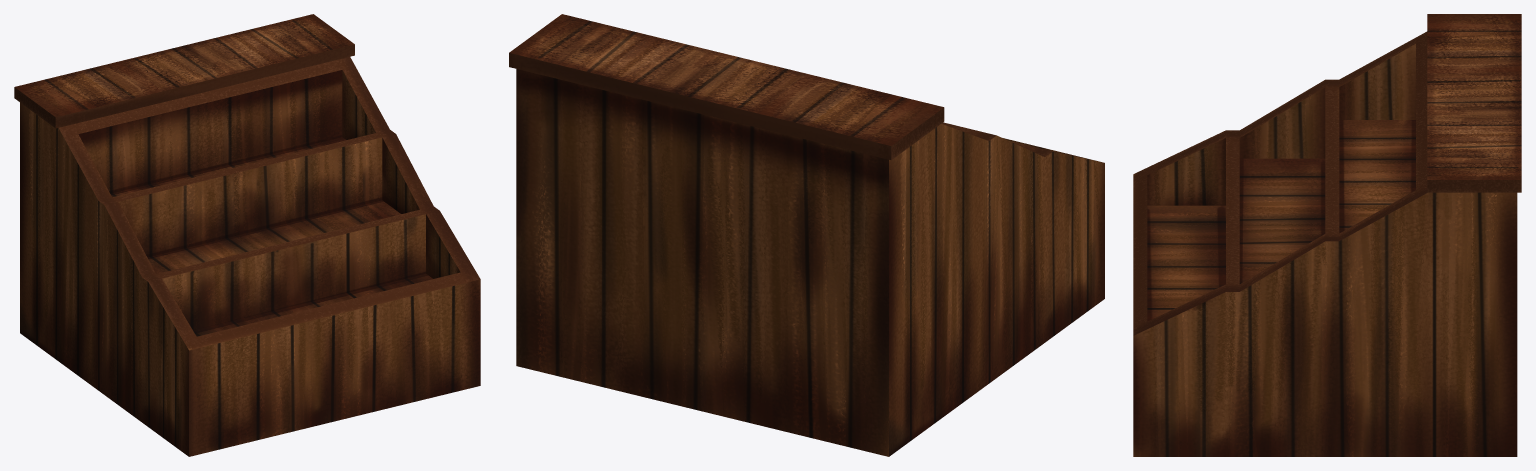
The model's file is Showcase.FBX.
3 views of the same model, side by side, from view 1: azimuth 30°, elevation 25°; view 2: azimuth 150°, elevation 25°; view 3: azimuth 270°, elevation 25° (orthographic). The views are drawn at different scales.
Parts seen in each view (by area): view 1: Showcase; view 2: Showcase; view 3: Showcase.
Part boxes in pixels (x1,y1,x2,y2): Showcase: [14, 14, 480, 456]; Showcase: [509, 14, 1104, 456]; Showcase: [1133, 14, 1521, 456].
Size of the model in its own units: 166 by 130 by 164.
1 material, 1 textured.
